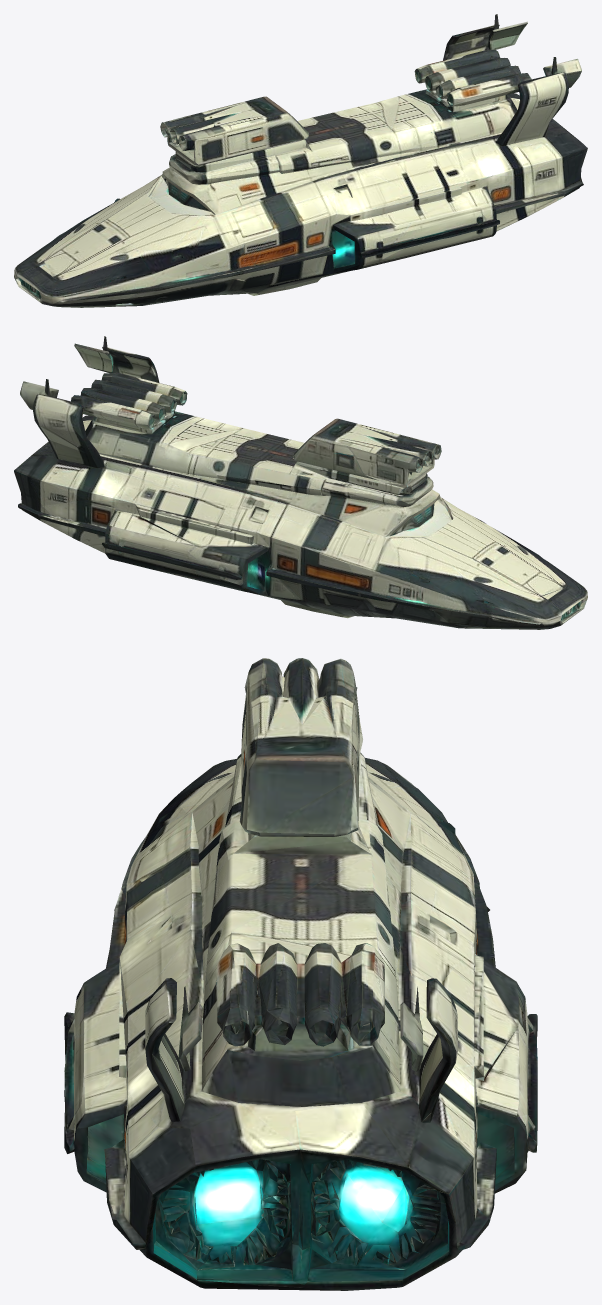
Rendered from vessel-lance.glb.
3 renders of one model, top to bottom at view 1: azimuth 30°, elevation 25°; view 2: azimuth 150°, elevation 25°; view 3: azimuth 270°, elevation 25°, orthographic. The views are drawn at different scales.
Bounding box in the file's own units: 1.9 × 0.6461 × 0.7416.
Materials: 1 (1 with a texture image).
